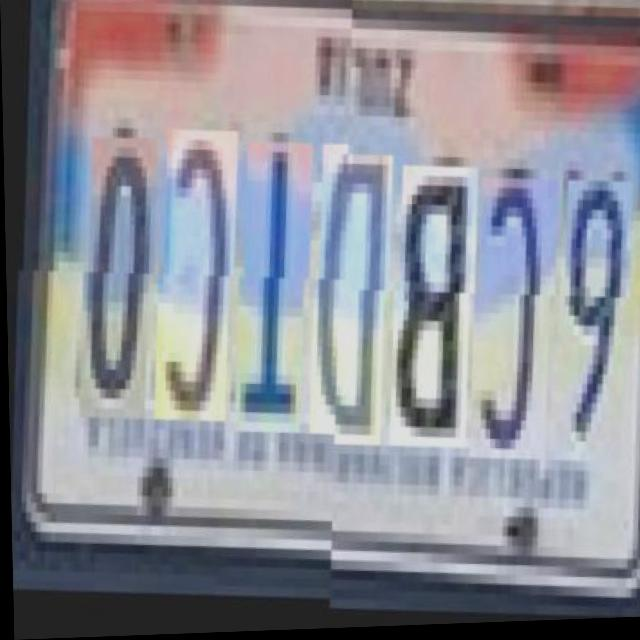6: (547, 175, 628, 450)
b: (381, 160, 473, 447)
c: (461, 171, 553, 458), (145, 136, 232, 432)
d: (301, 149, 389, 445)
o: (69, 144, 152, 429)
t: (225, 148, 308, 443)
